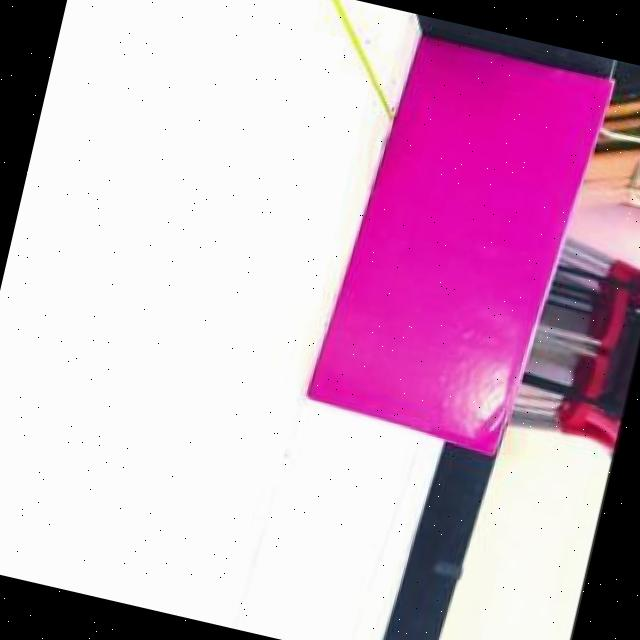xparking: (319, 41, 583, 451)
